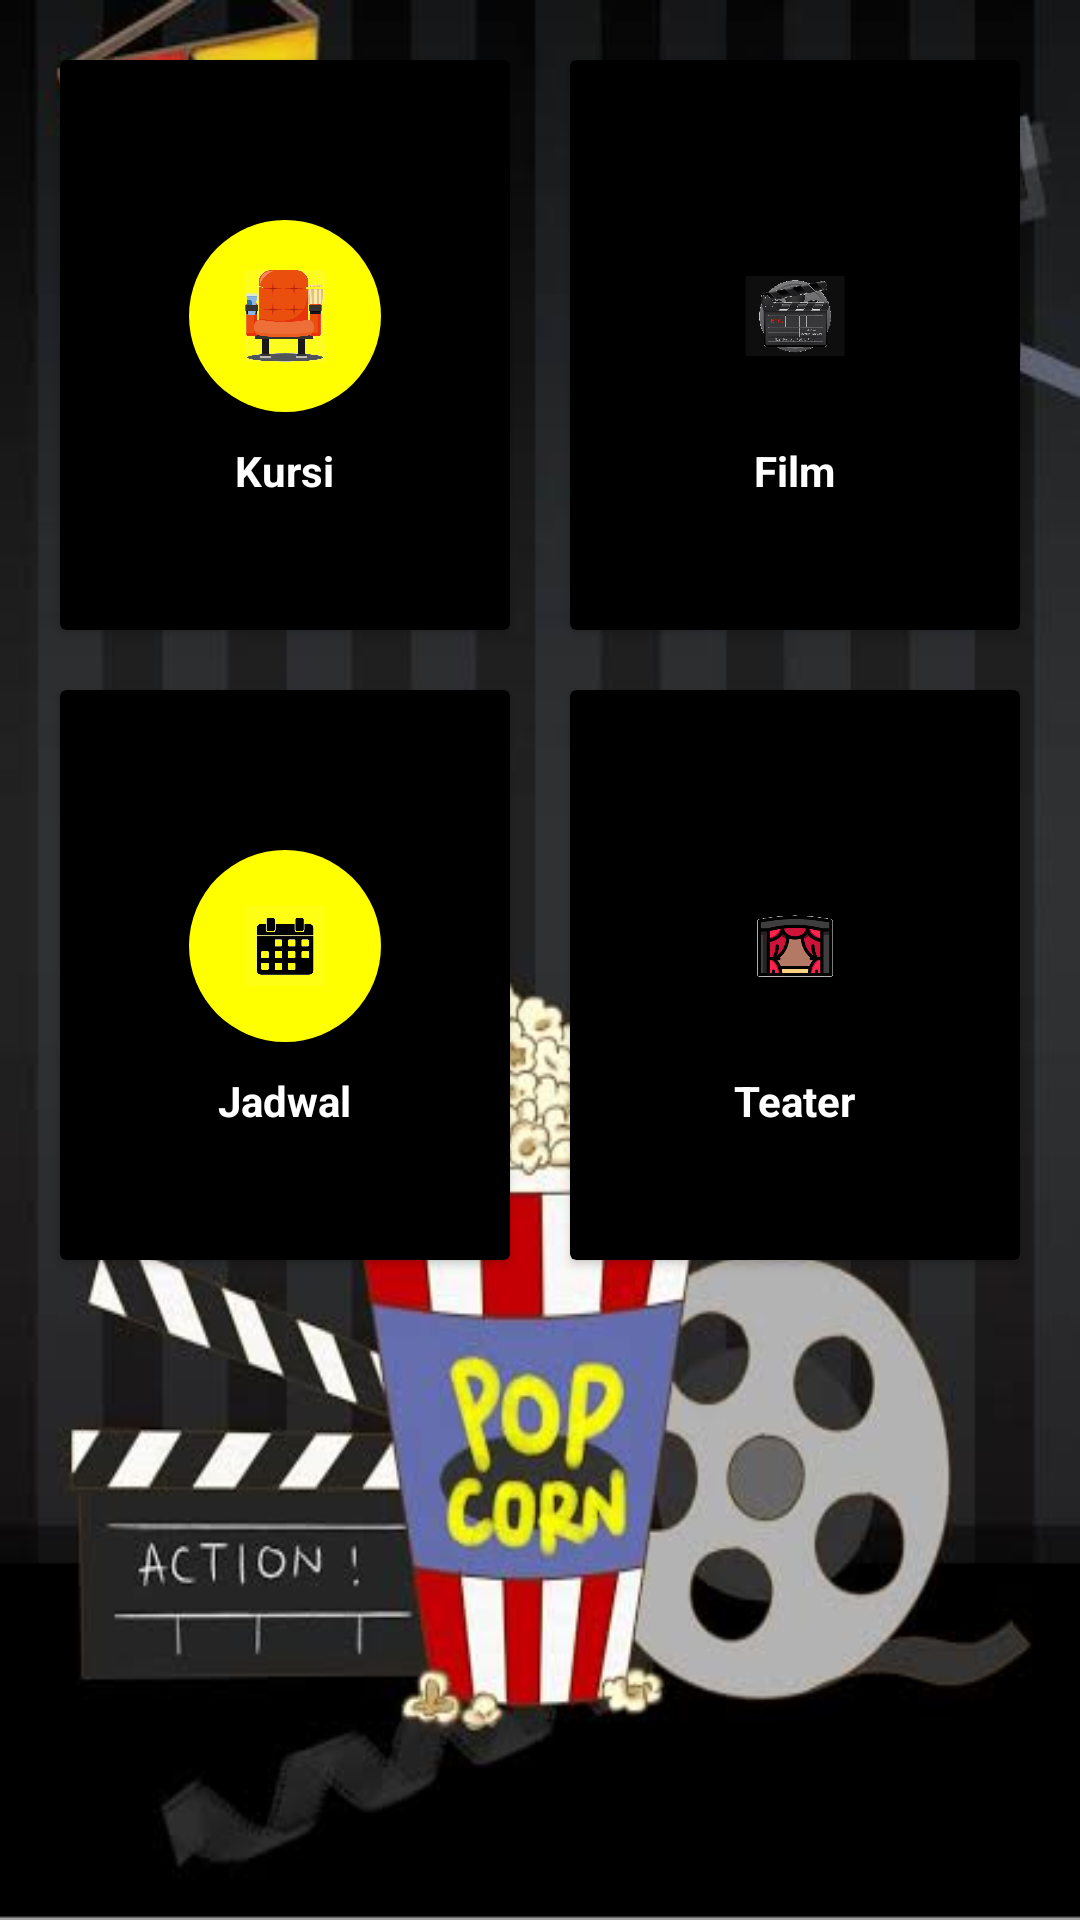

Named icons in this screenshot (1080×1920) and their centers, point (x, y):
calender: point (285, 946)
